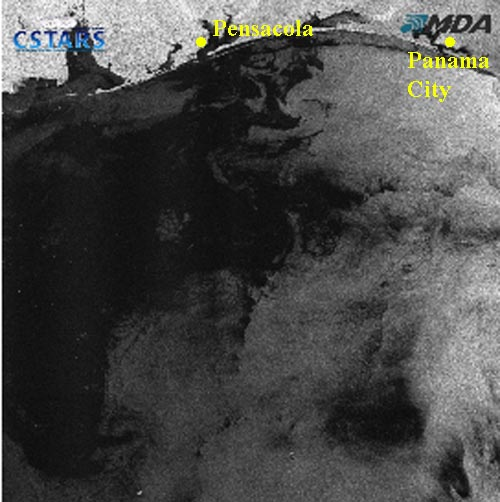anomaly: (162, 86, 339, 290)
